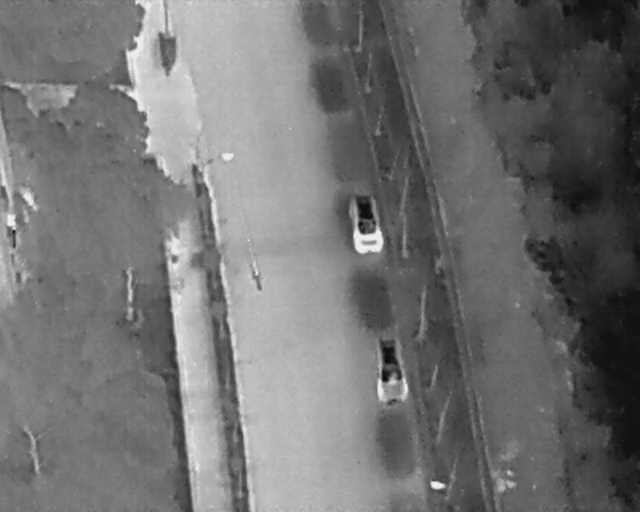Car: (346, 191, 386, 256), (373, 334, 409, 404)
Person: (252, 270, 263, 290)
